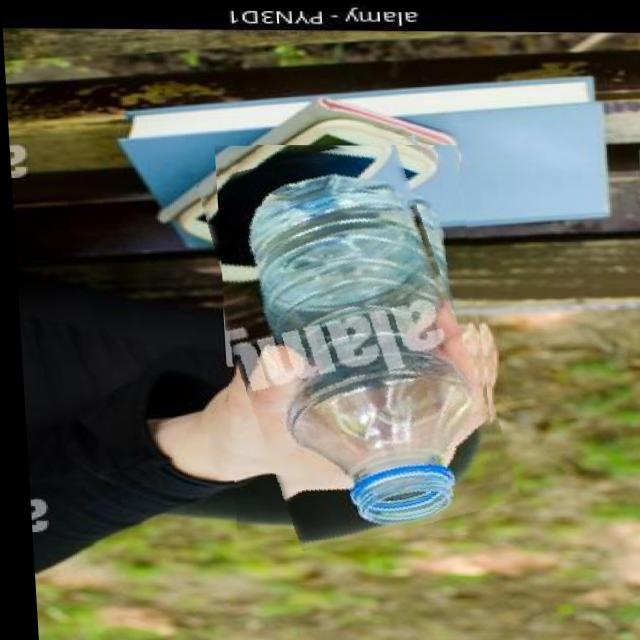plasticbottle: (212, 142, 497, 540)
